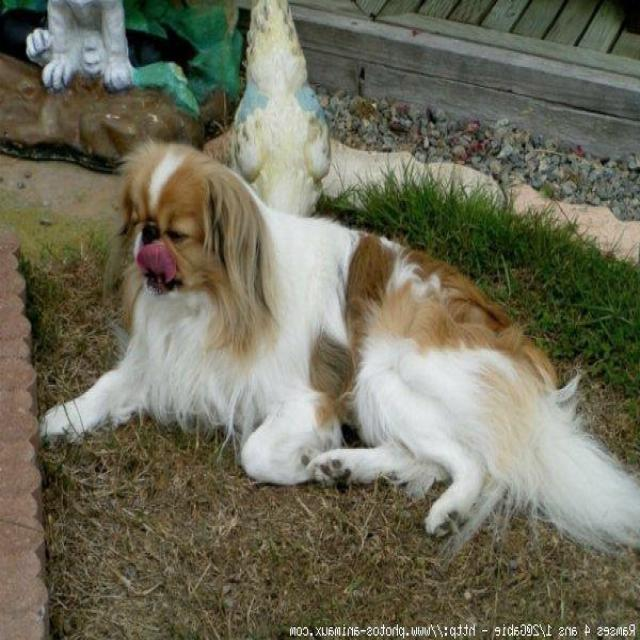husky: (38, 143, 640, 538)
